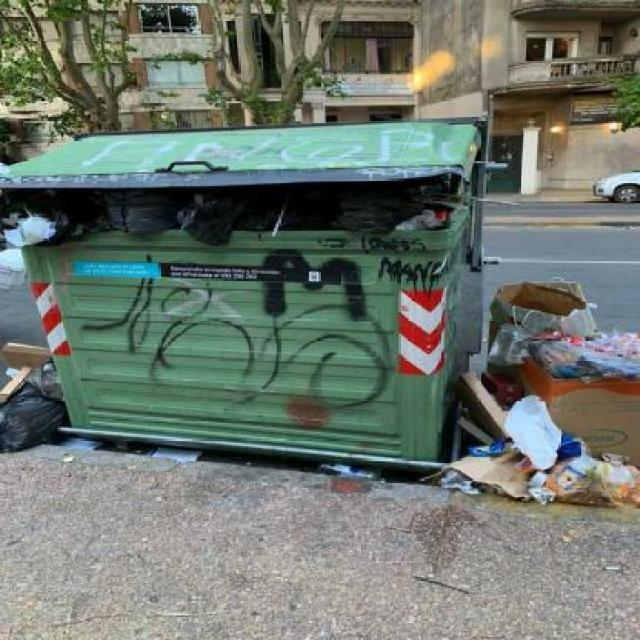garbage: (451, 277, 638, 516), (0, 182, 469, 239), (0, 362, 84, 450)
